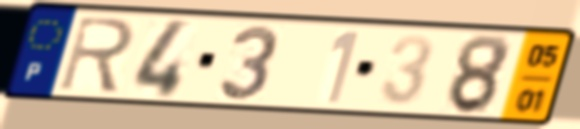1: (325, 29, 362, 105)
3: (216, 22, 281, 104), (378, 32, 440, 109)
4: (130, 16, 187, 101)
8: (444, 31, 513, 118)
R: (55, 13, 137, 95)
